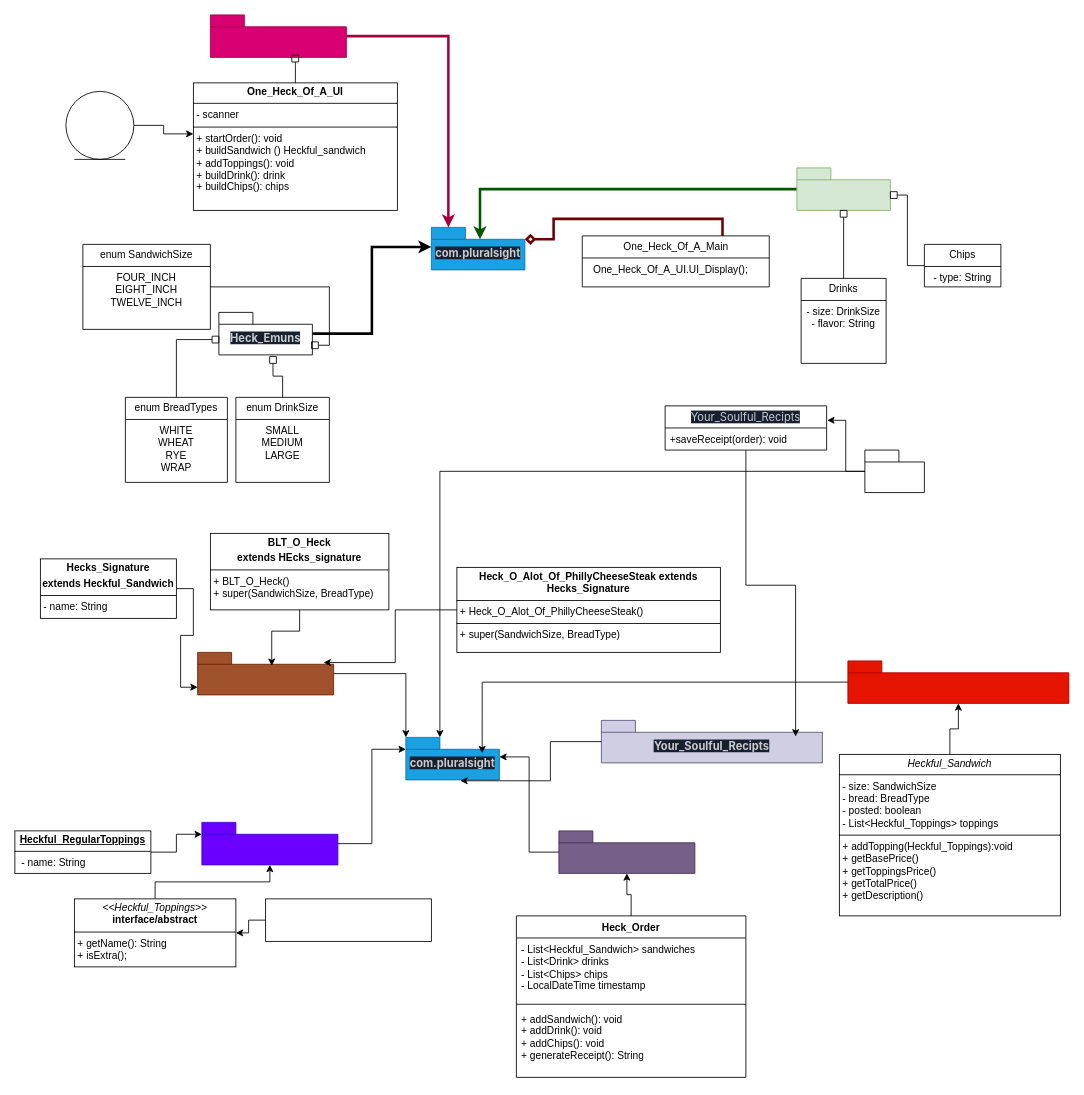
This 1084x1095 diagram has some shape labels left out. The shapes that lost their labels are listed below. From the top down, each one's centre as x and y in pixels, then its label:
At point (278, 35): "UI_OF_THE_DANGED".
At point (99, 125): "ColorCodes".
At point (843, 188): "com.Sides".
At point (894, 471): "receipts".
At point (265, 673): "Hecks_Signatures".
At point (958, 681): "One_Heck_of_a_Sandwich_Package".
At point (269, 843): "Heck_Toppings".
At point (626, 851): "Heckful_Order".
At point (348, 919): "Heckful_PremiumToppings - name: String".
